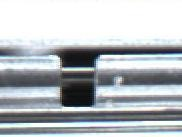oneu: (44, 49, 108, 115)
